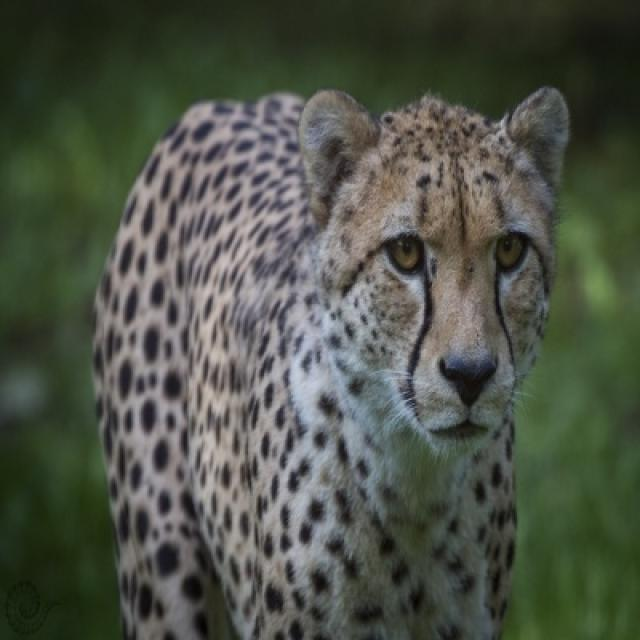Cheetah: (84, 74, 577, 638)
